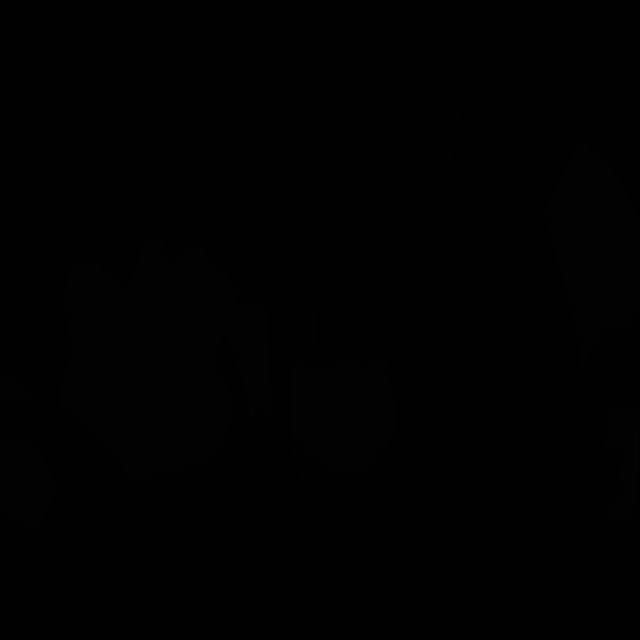cardboard: (58, 238, 273, 482), (544, 138, 640, 369), (291, 358, 397, 479), (595, 407, 640, 529)
rigid_plastic: (225, 205, 331, 520), (372, 62, 464, 220)
